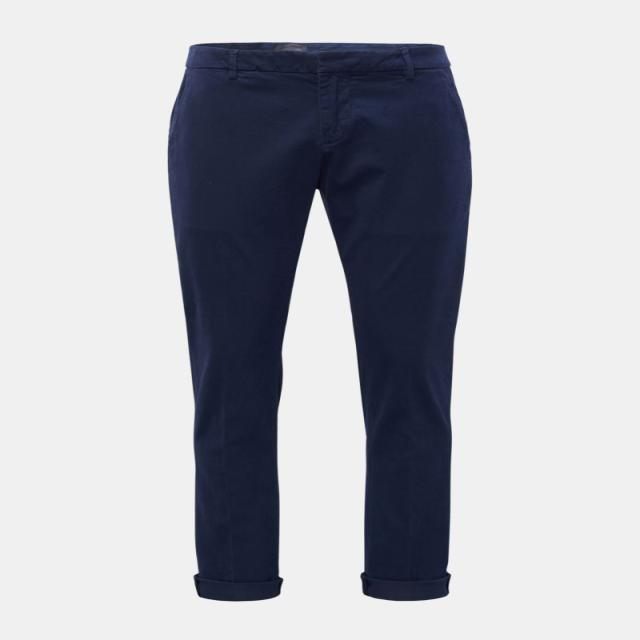long-pants: (165, 41, 472, 601)
